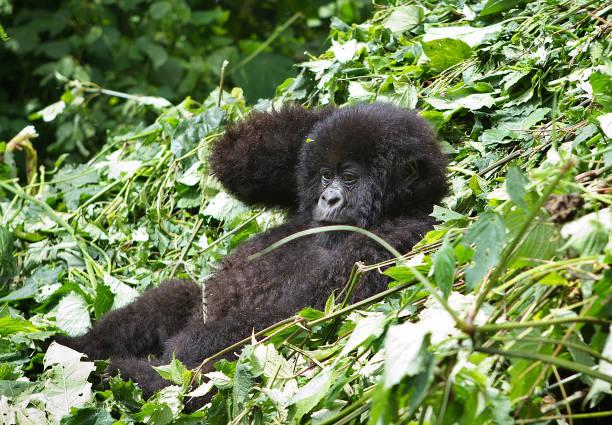goriile_montagne: (74, 81, 475, 381)
